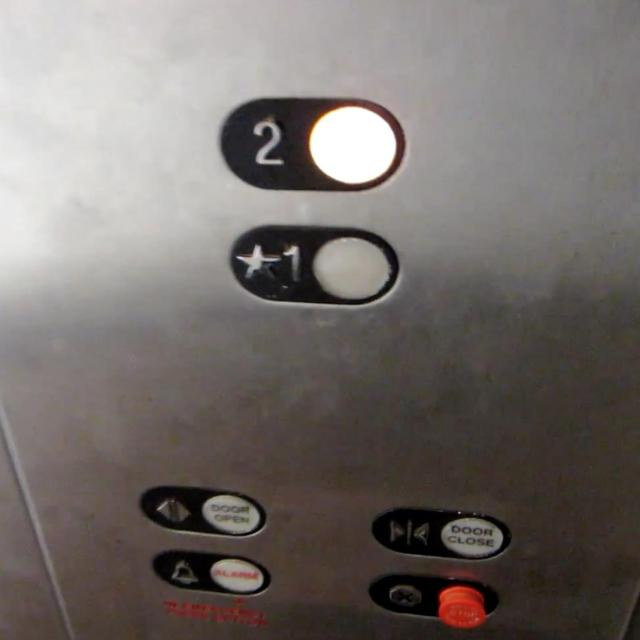2: (213, 90, 412, 196)
alarm: (148, 544, 273, 600)
close: (367, 502, 514, 564)
open: (130, 480, 272, 541)
s1: (223, 220, 408, 308)
text: (369, 570, 502, 634)
